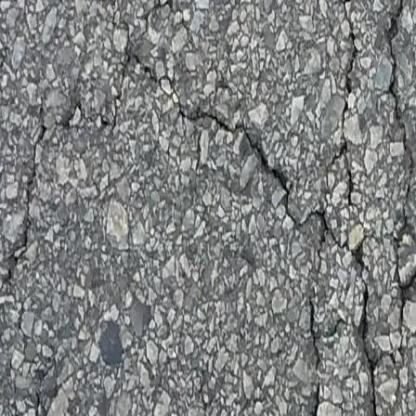Cracks: (92, 0, 322, 234), (230, 210, 400, 416), (338, 2, 414, 416), (0, 104, 88, 318)
